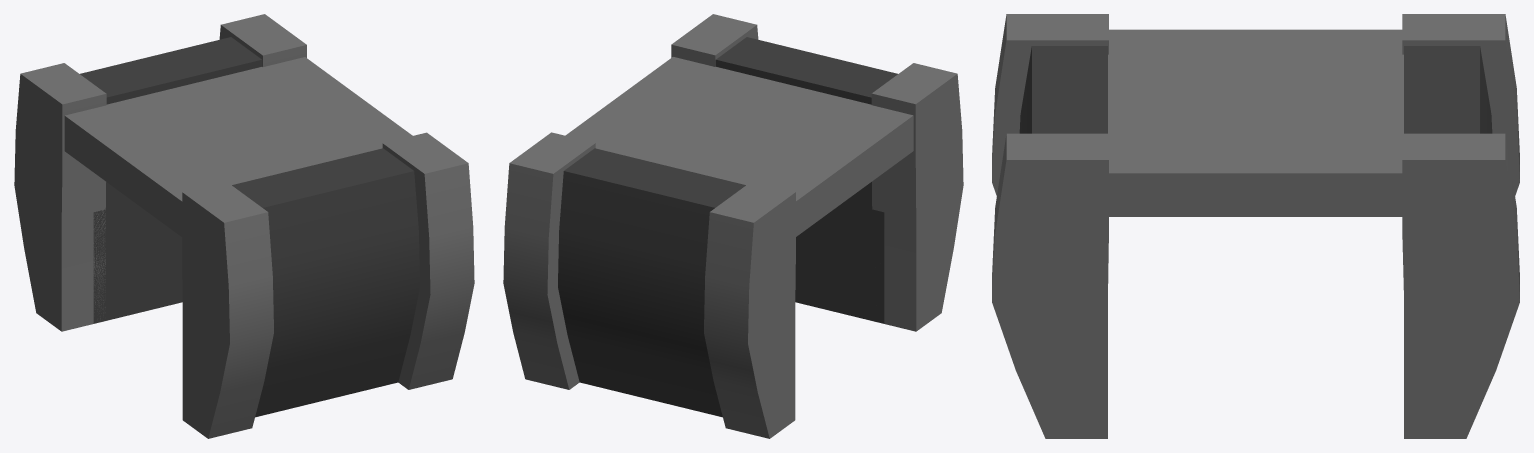
Rendered from mesh_stone_harbour_peice.fbx.
3 renders of one model, left to right at view 1: azimuth 30°, elevation 25°; view 2: azimuth 150°, elevation 25°; view 3: azimuth 270°, elevation 25°, orthographic. The views are drawn at different scales.
Parts seen in each view (by area): view 1: stone_harbour_peice; view 2: stone_harbour_peice; view 3: stone_harbour_peice.
Boxes of the visible parts, left/top/right/bottom form: stone_harbour_peice: left=14, top=14, right=474, bottom=438; stone_harbour_peice: left=503, top=14, right=963, bottom=438; stone_harbour_peice: left=992, top=14, right=1519, bottom=438.
Bounding box in the file's own units: 717 × 639 × 1096.
1 material, 1 textured.
